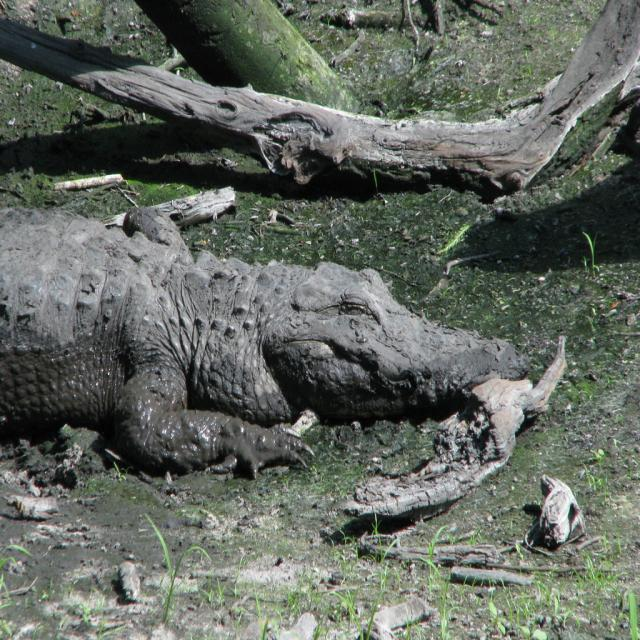crocodile: (1, 199, 530, 473)
